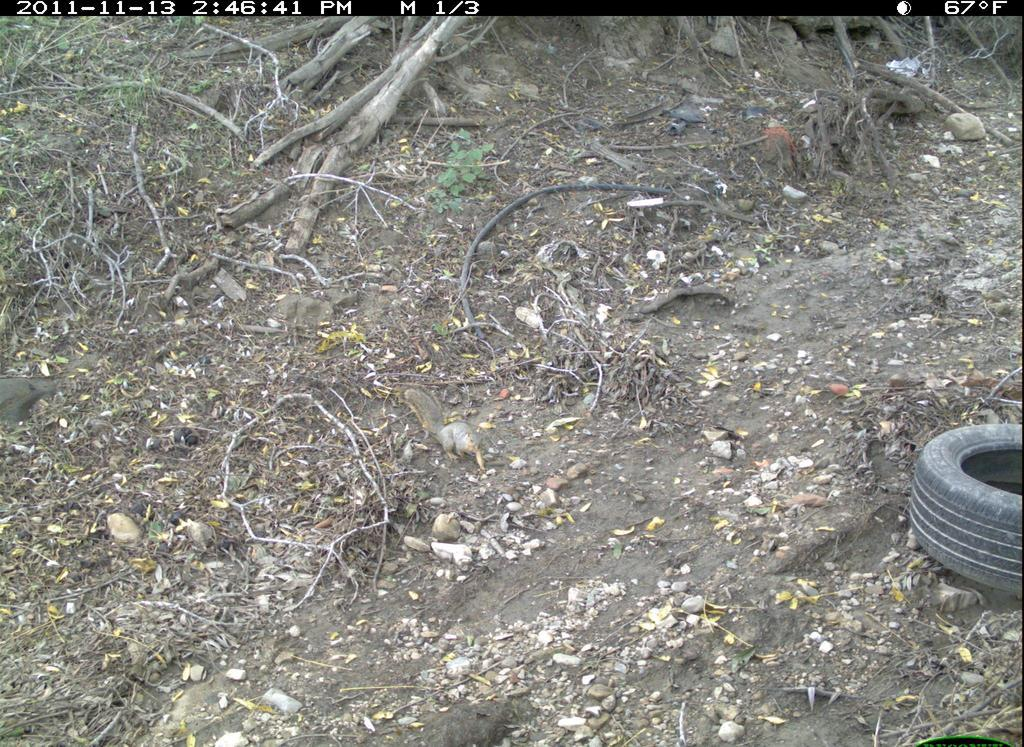squirrel: (390, 374, 492, 477)
